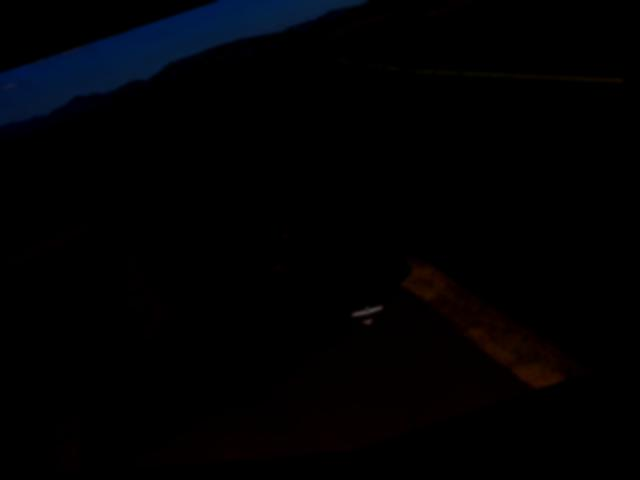uav: (344, 299, 390, 340)
